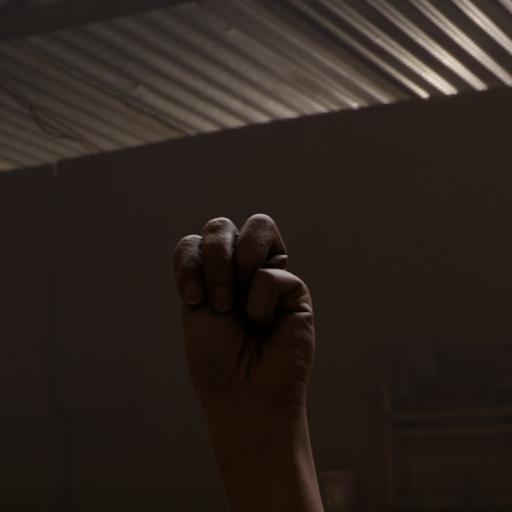M: (109, 178, 415, 488)
